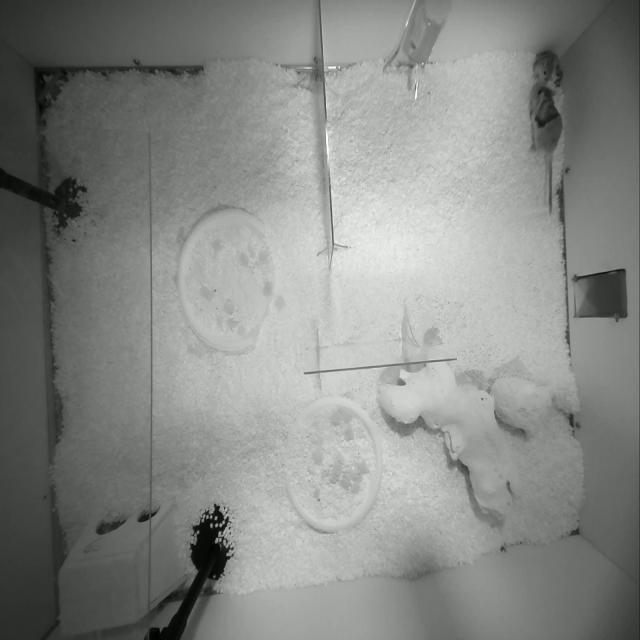adult_front: (530, 82, 562, 213)
pup_h_stripe: (532, 50, 563, 87)
